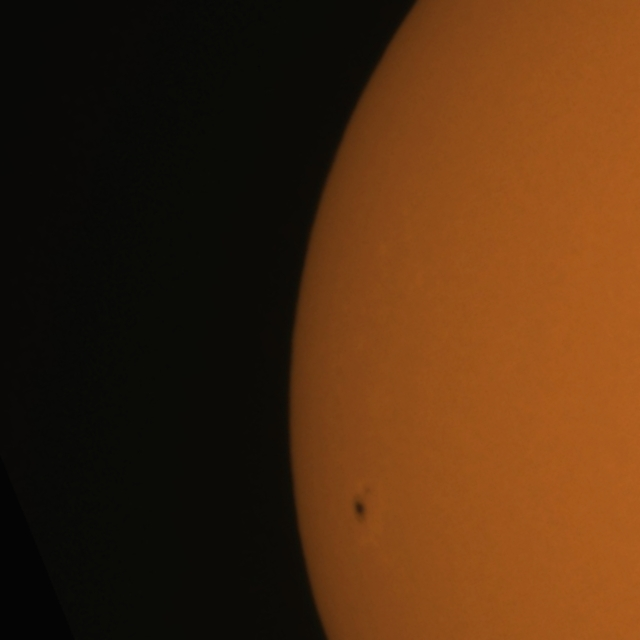sunspot: (351, 487, 370, 526)
